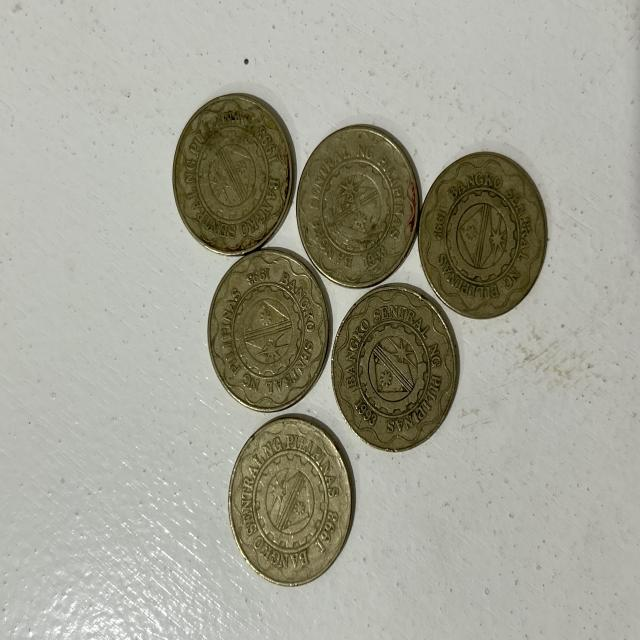5_Old_Back: (228, 412, 353, 585), (296, 121, 420, 289), (167, 95, 297, 253), (334, 289, 460, 448), (205, 249, 332, 402), (429, 143, 548, 304)
